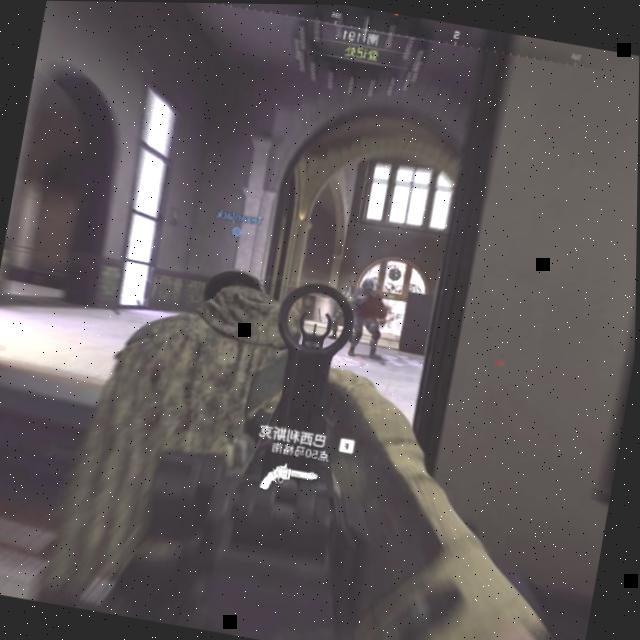MW2_body: (346, 276, 394, 364), (329, 282, 358, 343)
